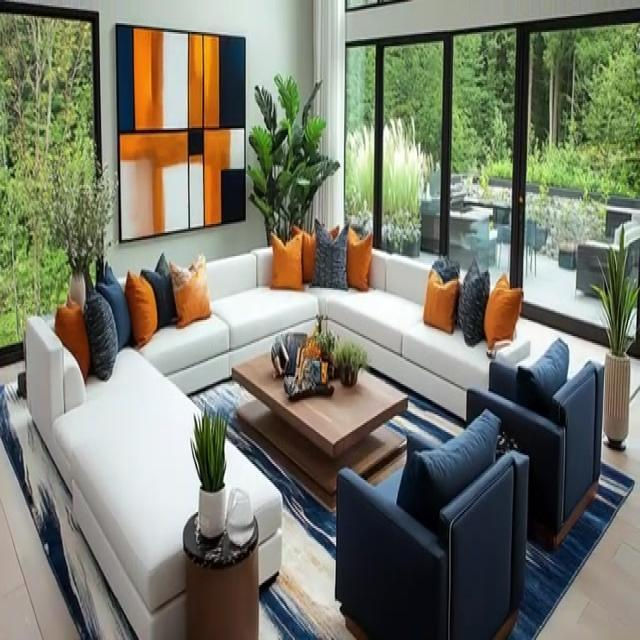obstacle: (25, 233, 530, 640), (337, 413, 529, 640), (470, 334, 600, 548), (232, 336, 408, 492), (185, 506, 258, 640)
